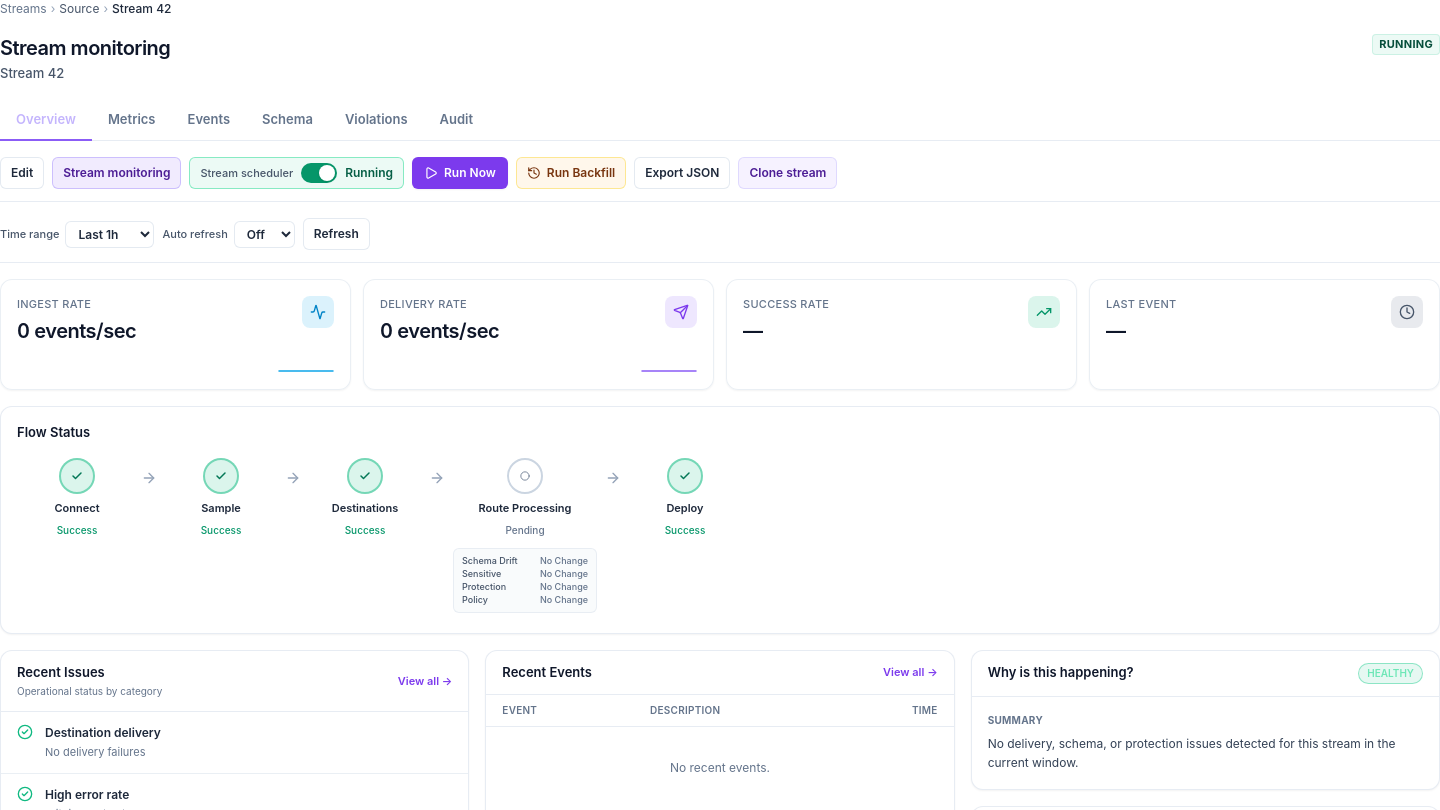
Test: StreamRuntimeDetailPage backfill modal › opens modal, runs replay, shows delivery summary
Click the tab with test id "stream-detail-tab-audit": [456, 120] box [424, 100, 489, 141]
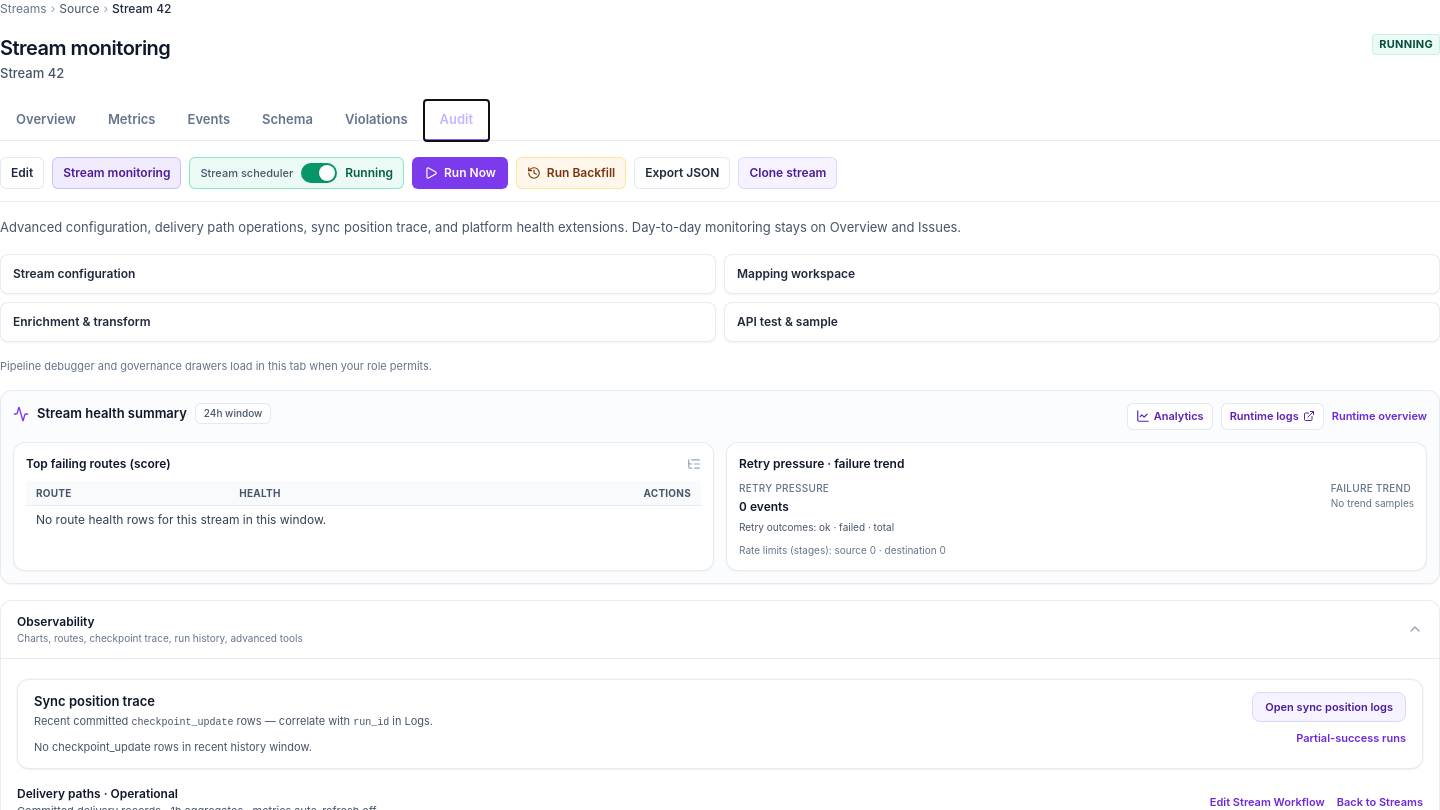
Click the button with test id "stream-run-backfill-open": [571, 173] box [516, 157, 626, 189]
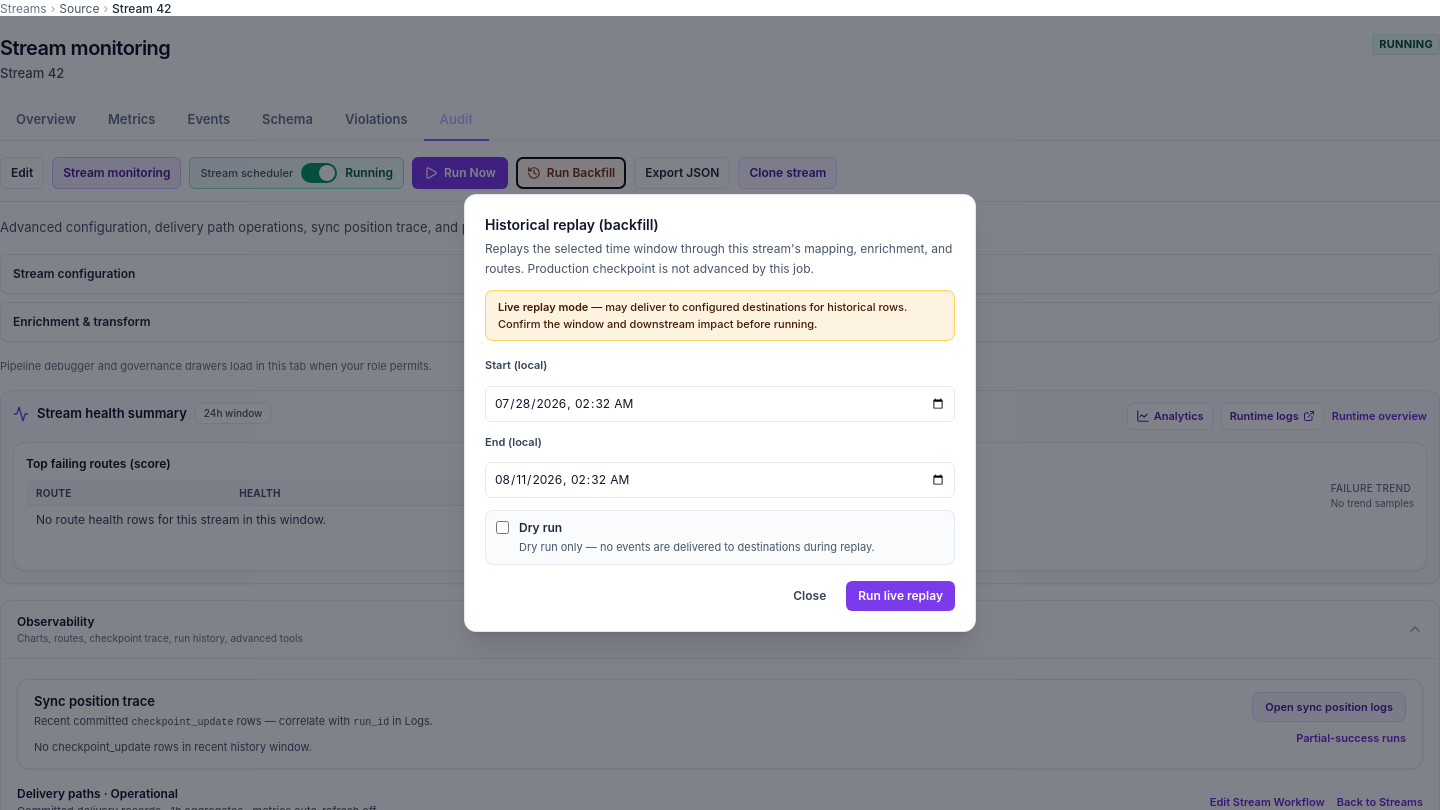
Result: the dialog with test id "stream-backfill-modal" is shown
Click the button with test id "stream-backfill-submit": [901, 596] box [846, 581, 955, 611]
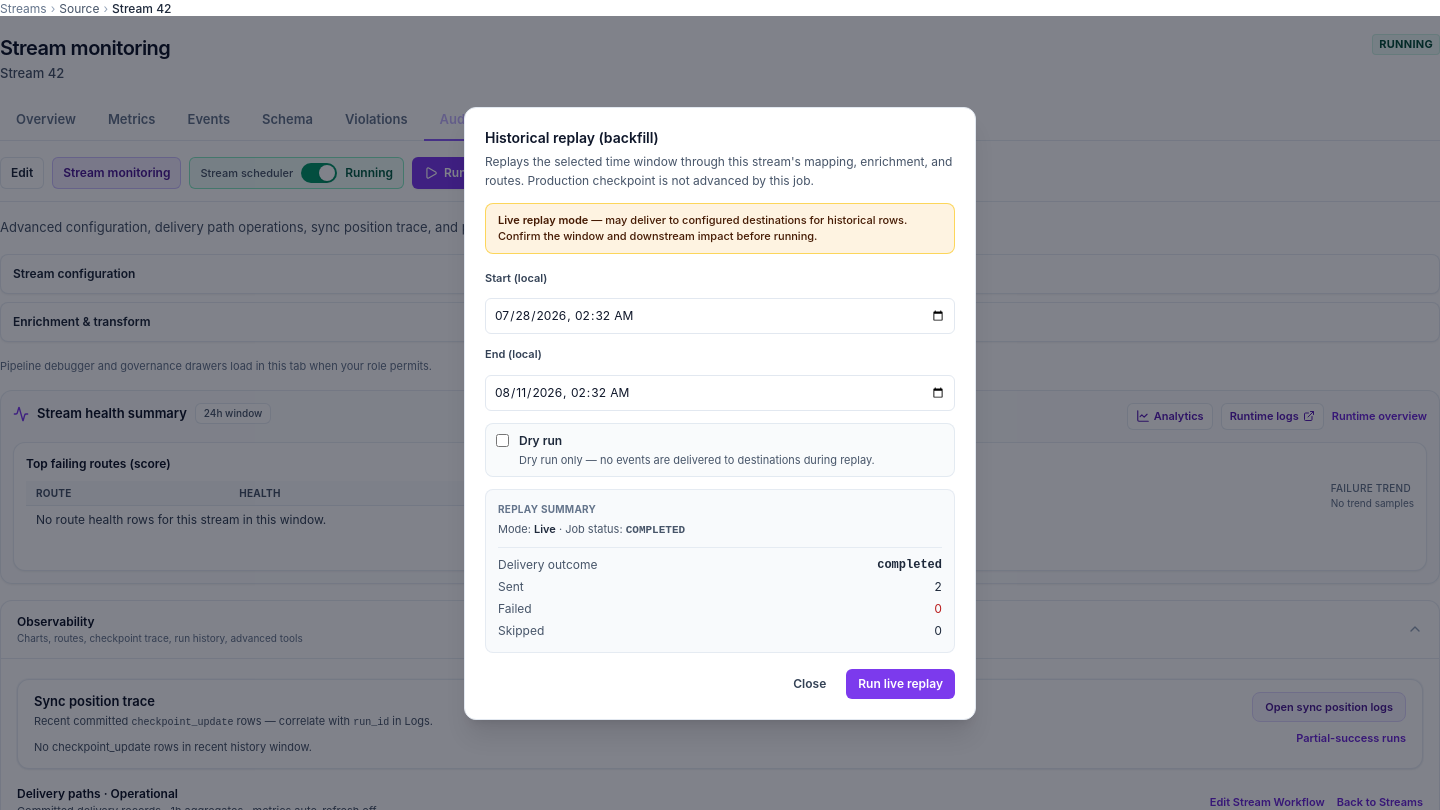
Result: the element with test id "stream-backfill-result" is shown at [485, 489, 955, 652]
Result: the list item "Sent" shows "2" at [934, 578, 942, 594]
